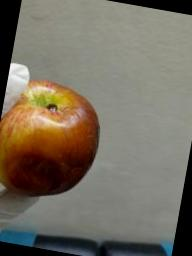Apple Rotten: (0, 68, 112, 211)
